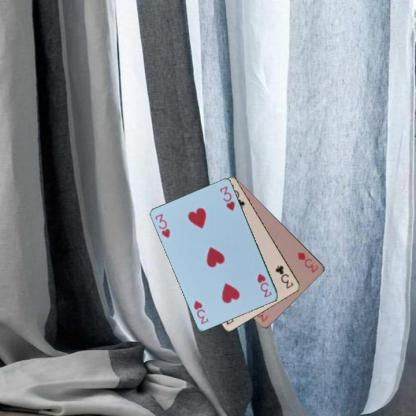3c: (272, 263, 294, 290)
3d: (295, 249, 320, 274)
3h: (153, 211, 172, 239), (255, 271, 273, 299)
